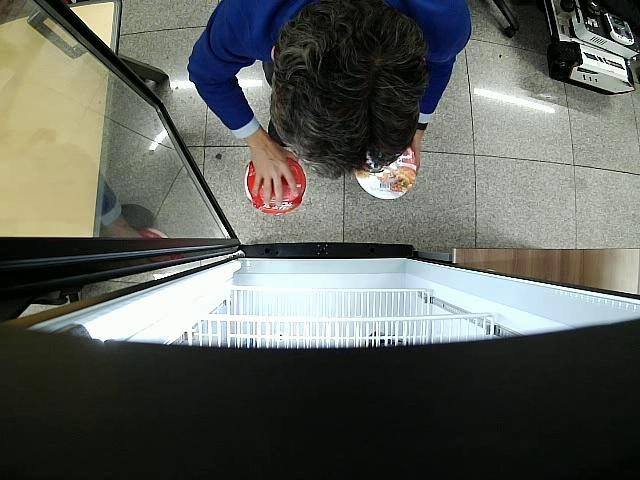10_wangTtukkeong: (244, 158, 307, 216)
